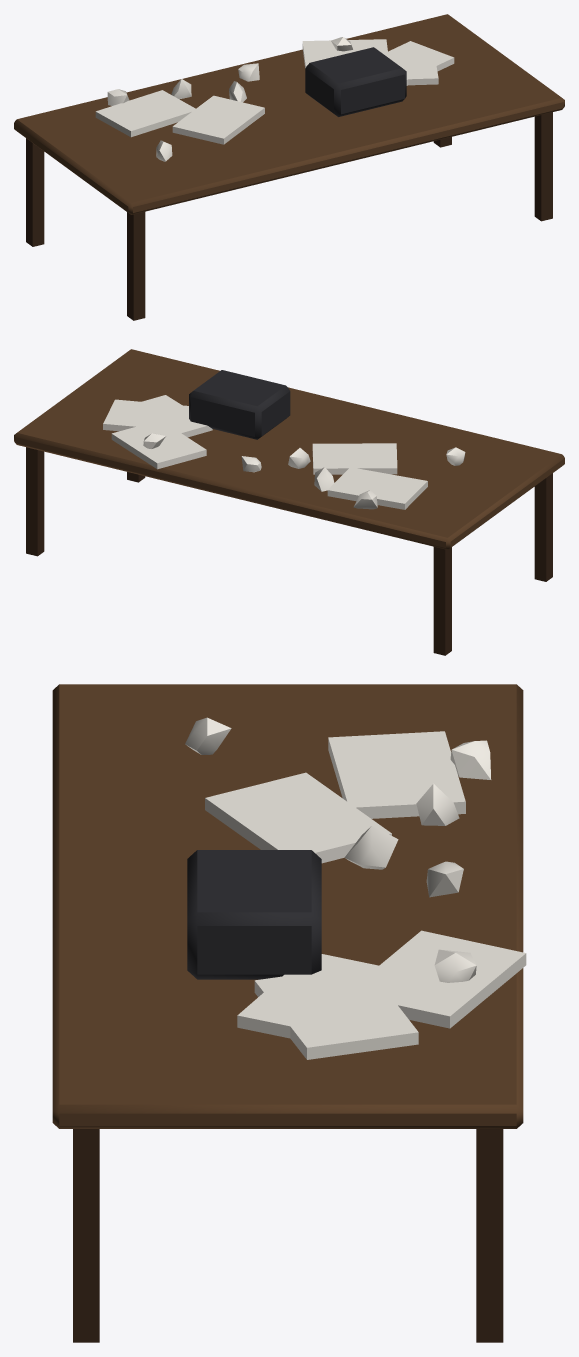
The model's file is writers_table.glb.
The picture shows the model from 3 angles, top to bottom: view 1: azimuth 30°, elevation 25°; view 2: azimuth 150°, elevation 25°; view 3: azimuth 270°, elevation 25°; orthographic projection. The views are drawn at different scales.
Parts seen in each view (by area): view 1: writers_table; view 2: writers_table; view 3: writers_table.
Boxes of the visible parts, bbox=[...] form: writers_table: bbox=[14, 14, 564, 320]; writers_table: bbox=[14, 349, 564, 655]; writers_table: bbox=[52, 684, 526, 1342].
Bounding box in the file's own units: 3 × 1.03 × 1.41.
